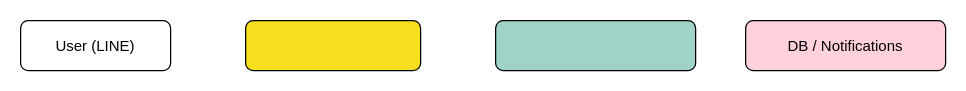
The diagram is 966 pixels wide and 91 high, and some of its shapes have lost their labels. The centre of each missing label's shape, as x and y in pixels:
"LINE Platform" belongs at (332,45).
"Webhook (Flask)" belongs at (595,45).
